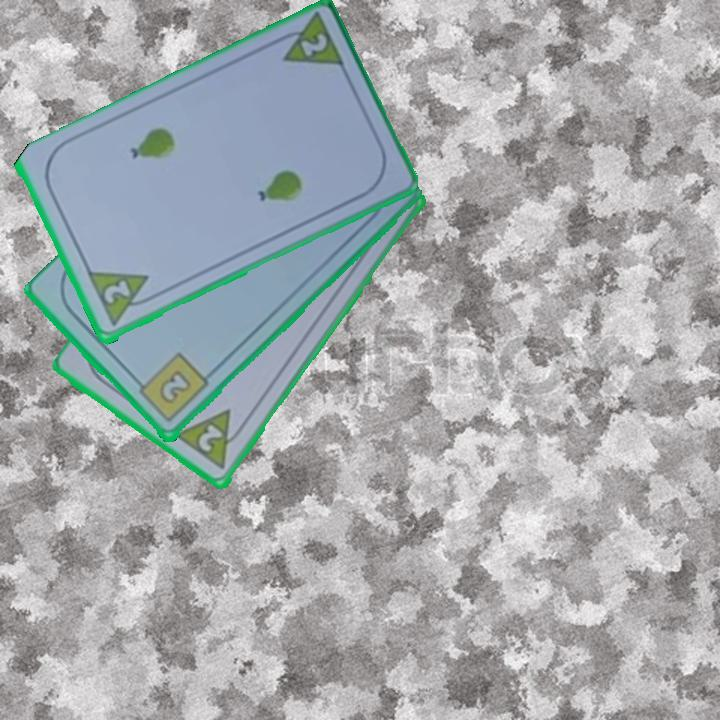2b: (131, 350, 211, 427)
2p: (172, 406, 251, 474), (85, 268, 160, 331), (296, 30, 330, 60)
